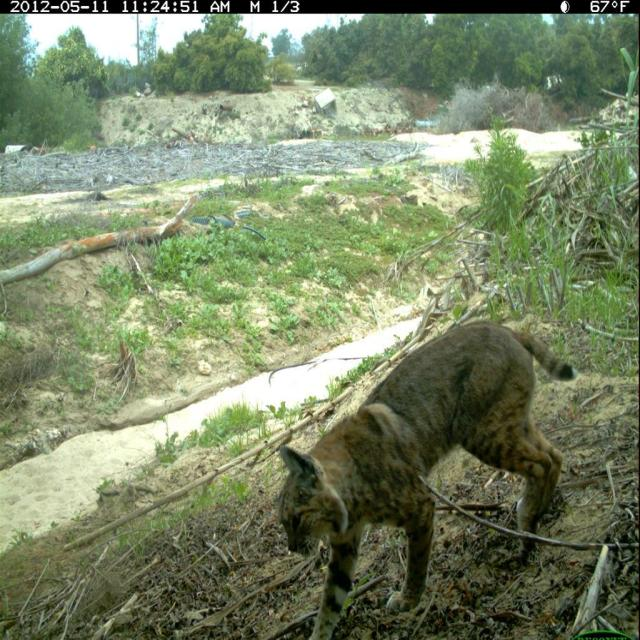bobcat: (268, 300, 585, 640)
